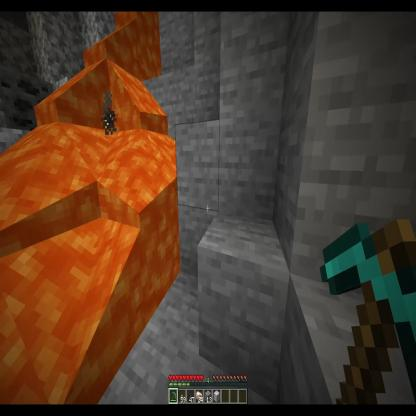coal ore: (2, 76, 59, 130)
